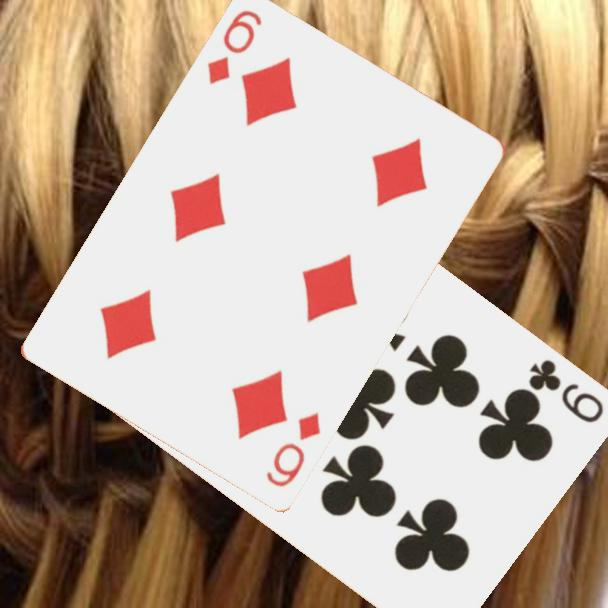c09: (524, 355, 606, 426)
d06: (262, 407, 324, 490), (203, 5, 265, 87)
